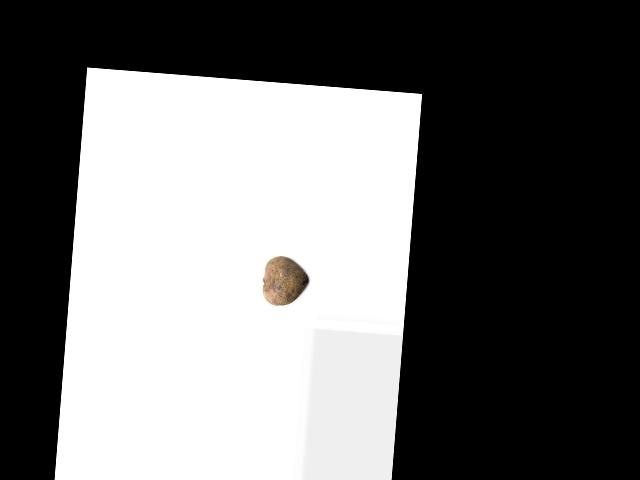beet: (261, 255, 310, 308)
